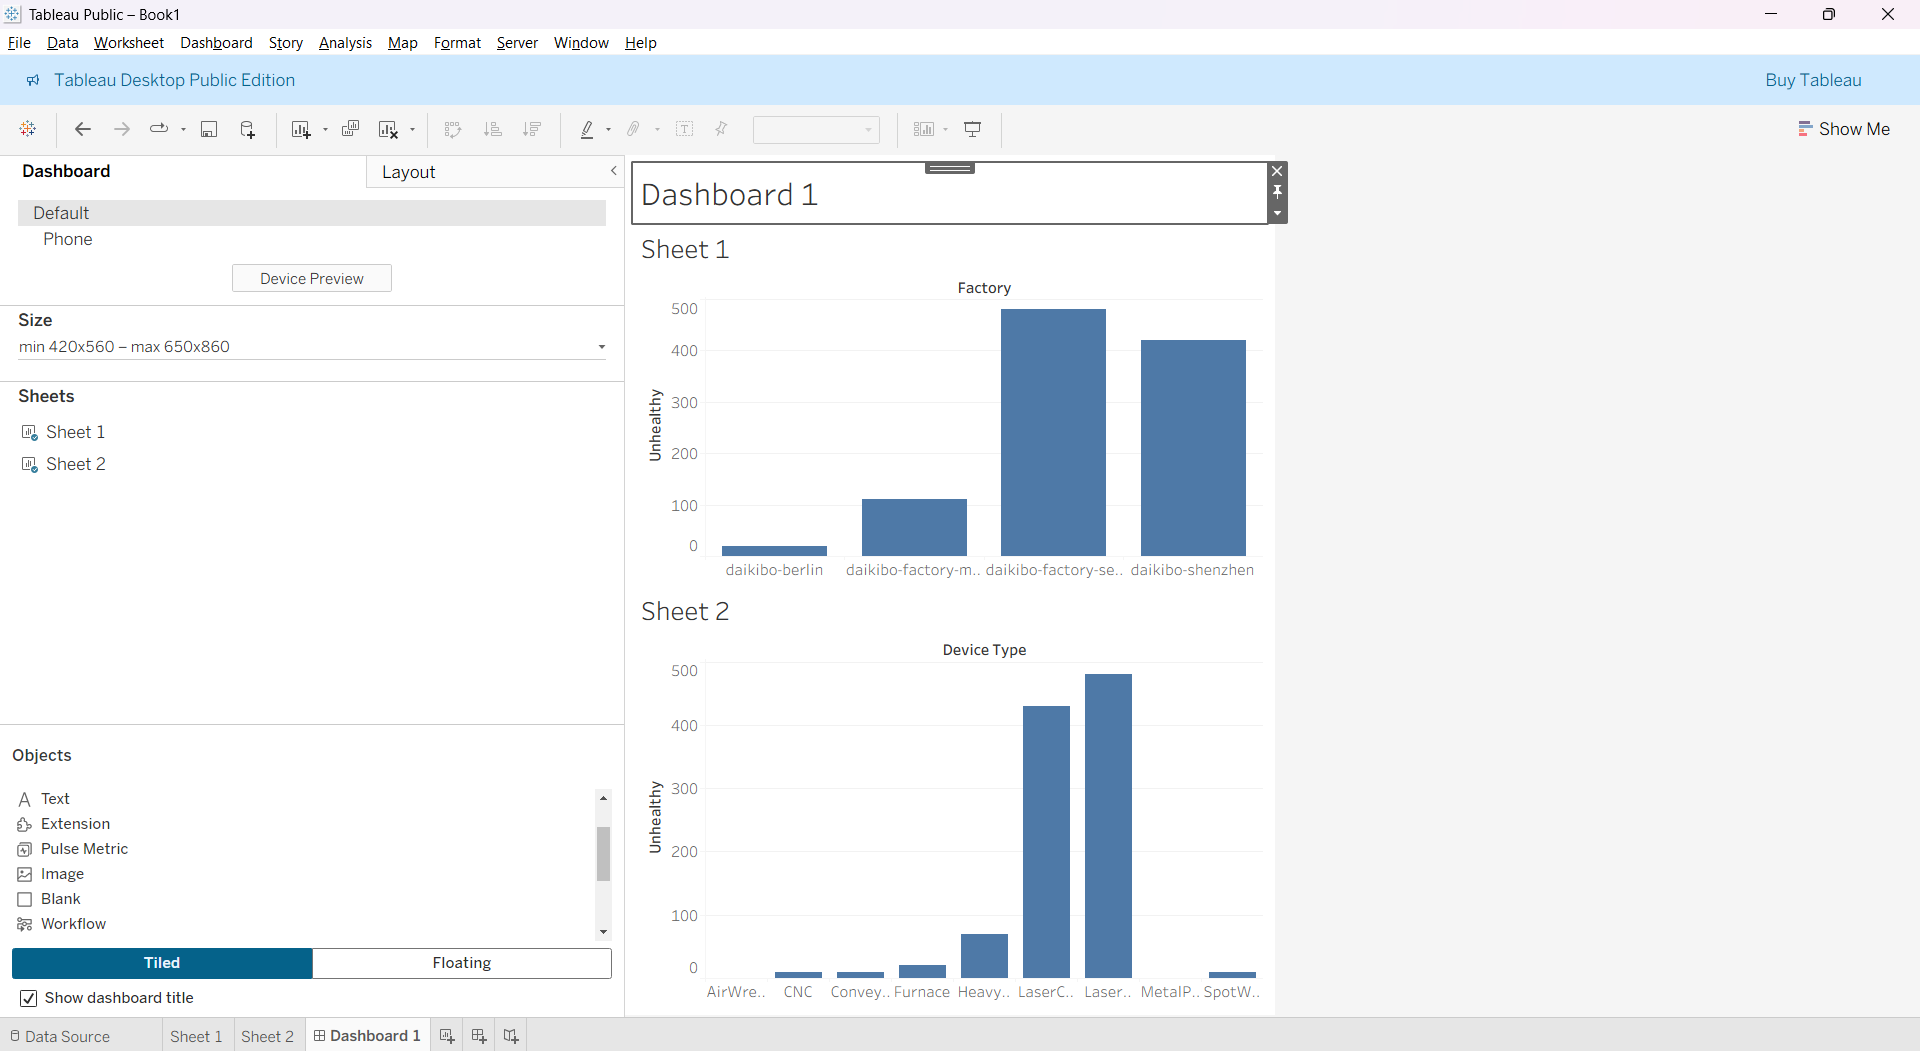

This screenshot's page, from the dashboard's own definition file:
{"tool":"tableau","page":{"name":"Dashboard 1","canvas":[650,860],"ordinal":0},"visuals":[{"type":"title","box":[8,8,634,60]},{"type":"worksheet","title":"Sheet 1","mark":"Automatic","rows":["Calculation_857654254932365315"],"cols":["factory"],"box":[8,68,634,362]},{"type":"worksheet","title":"Sheet 2","mark":"Automatic","rows":["Calculation_857654254932365315"],"cols":["deviceType"],"box":[8,430,634,422]}]}

Visuals, with their boxes on the page's 650x860 design canvas (x1, y1, x2, y2). These are canvas units, not pixel positions in the 1920x1051 screenshot, which may show the page scaled, cropped or inside an application window:
title: [x1=8, y1=8, x2=642, y2=68]
"Sheet 1" worksheet: [x1=8, y1=68, x2=642, y2=430]
"Sheet 2" worksheet: [x1=8, y1=430, x2=642, y2=852]
